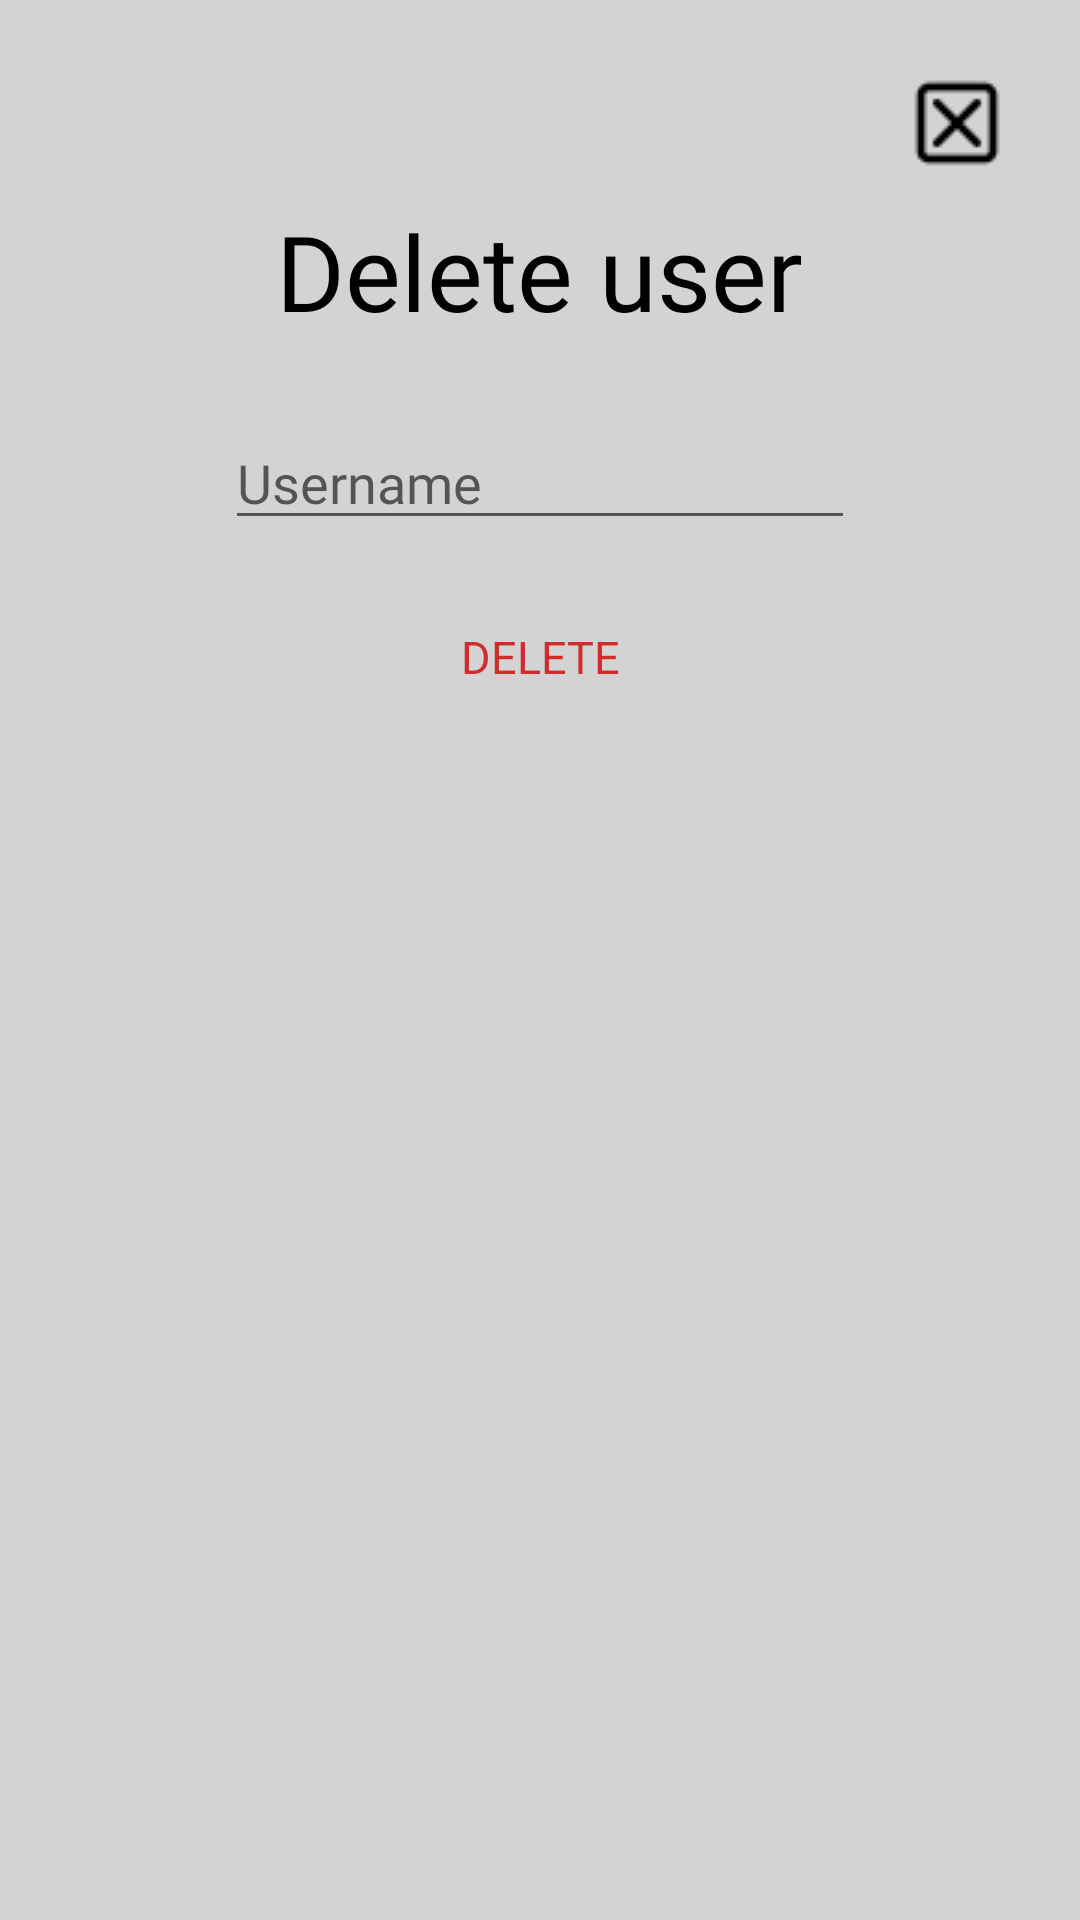

Icon bounding boxes for this 1080w x 1920h phone screenshot, format (x1, y1, x2, y2):
close window: (915, 81, 999, 165)
